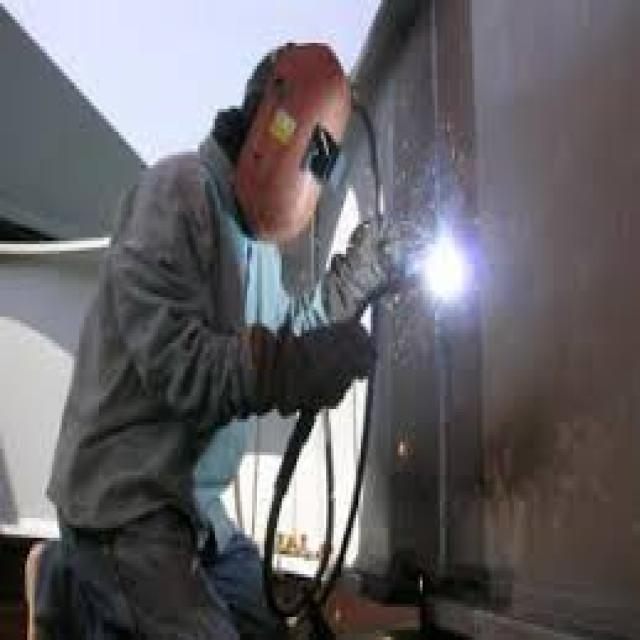welding: (422, 231, 470, 309)
